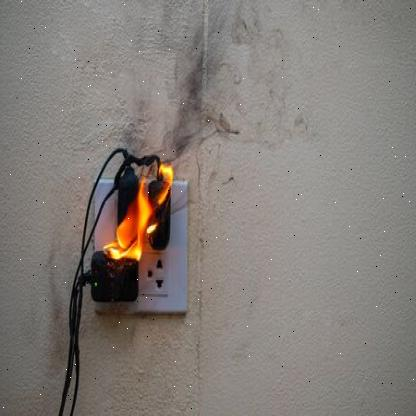fire: (103, 159, 183, 268)
smoke: (107, 0, 313, 157)
